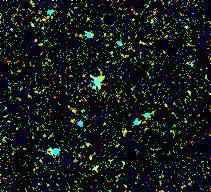star: (109, 116, 139, 146)
